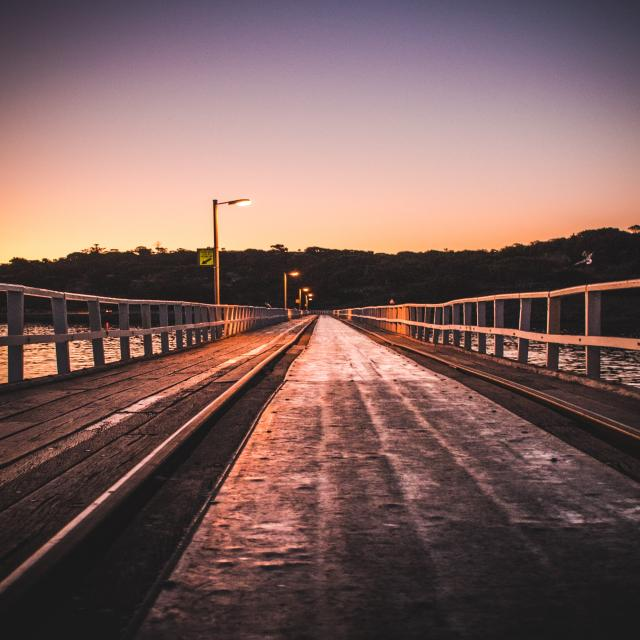Street Light: (214, 198, 251, 308), (282, 271, 300, 309), (300, 289, 309, 307)
